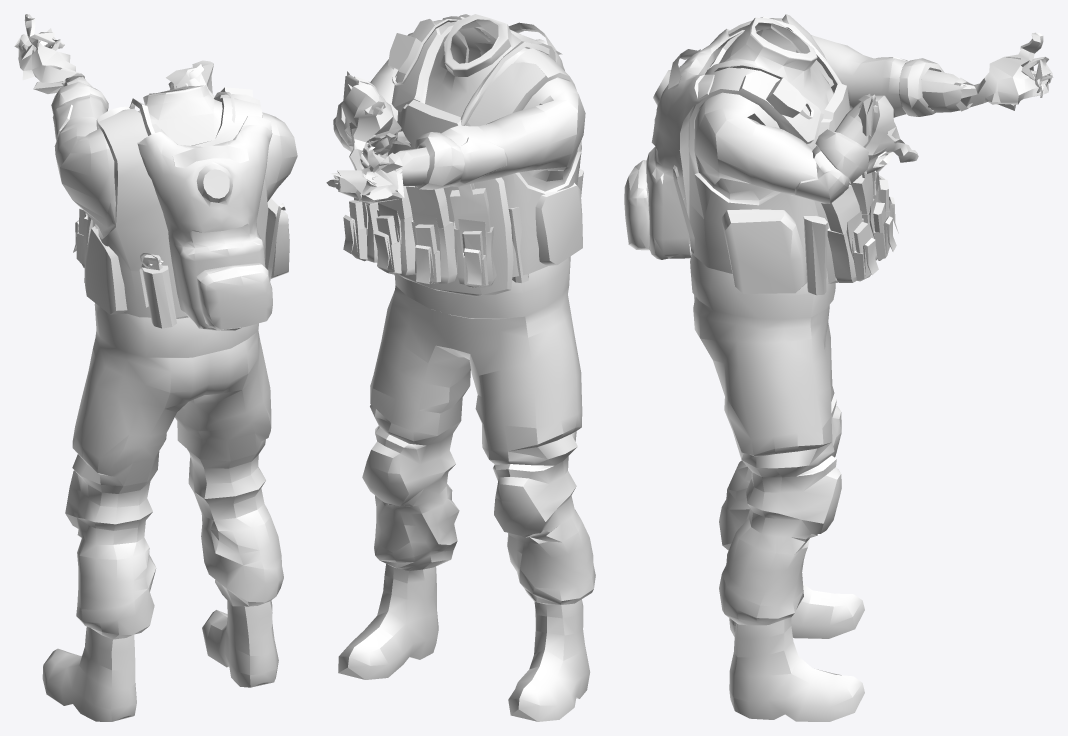
Rendered from stf_shotgun.glb.
The picture shows the model from 3 angles, left to right: view 1: azimuth 30°, elevation 25°; view 2: azimuth 150°, elevation 25°; view 3: azimuth 270°, elevation 25°; orthographic projection. The views are drawn at different scales.
Parts seen in each view (by area): view 1: body_STF, gear_STF; view 2: body_STF, gear_STF; view 3: body_STF, gear_STF.
Part boxes in pixels (x1,y1,x2,y2): body_STF: [14, 14, 297, 721]; gear_STF: [73, 87, 289, 330]; body_STF: [326, 14, 595, 721]; gear_STF: [343, 14, 583, 287]; body_STF: [683, 14, 1053, 721]; gear_STF: [624, 16, 898, 295].
Size of the model in its own units: 59.79 by 164 by 98.73.
2 materials, 2 textured.
